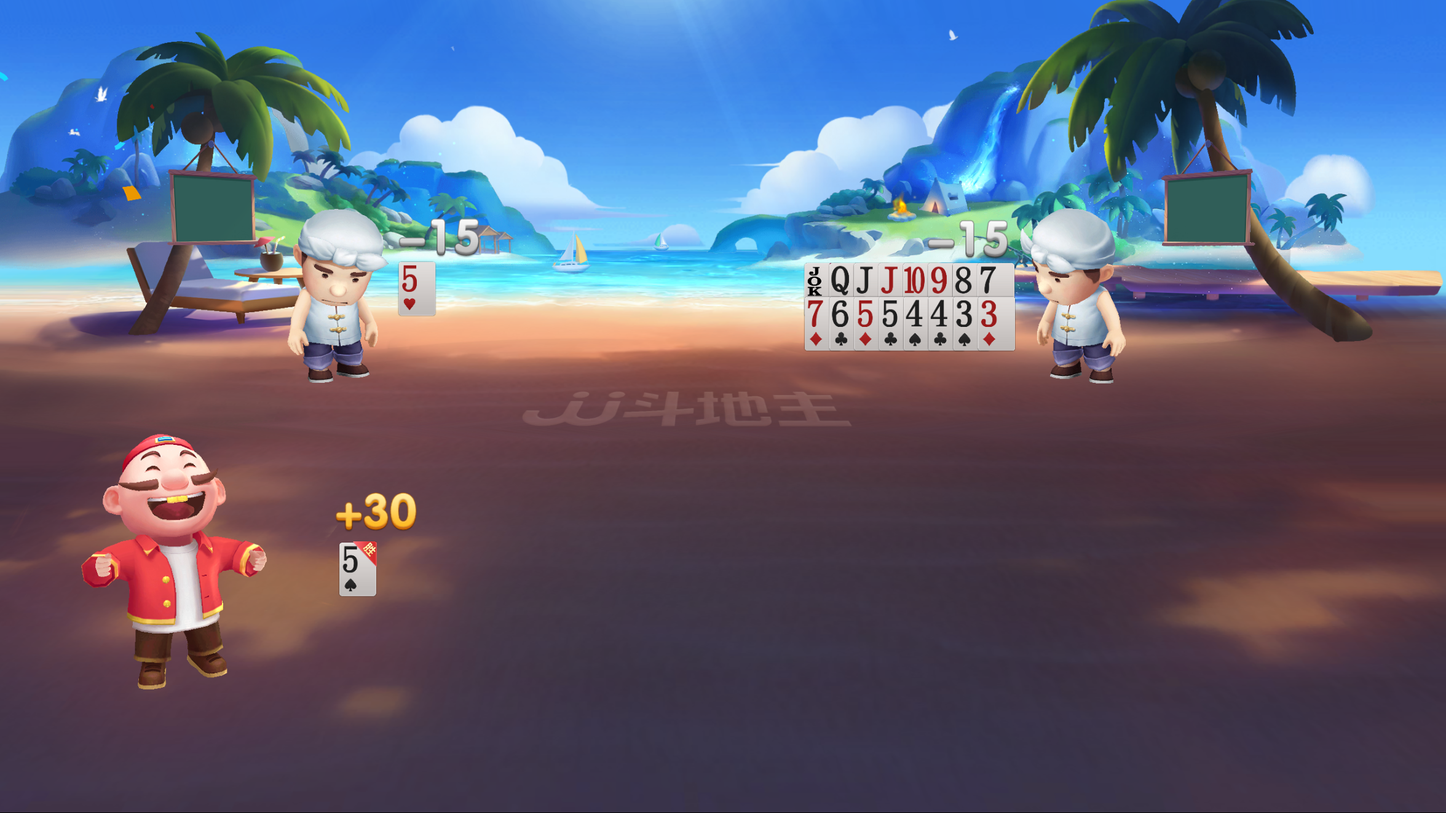J: (877, 263, 900, 299), (854, 264, 875, 294)
Q: (829, 264, 851, 300)
eight: (952, 263, 976, 298)
five: (338, 540, 364, 577), (397, 261, 425, 294), (856, 296, 880, 334), (880, 296, 901, 326)
four: (903, 296, 925, 329), (928, 297, 950, 329)
joker: (805, 264, 827, 299)
nine: (926, 261, 950, 296)
seven: (978, 264, 1002, 300), (805, 297, 826, 330)
six: (829, 297, 852, 329)
ten: (905, 259, 930, 299)
three: (978, 299, 1003, 329), (956, 296, 976, 330)
